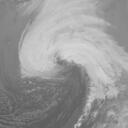cyclone: (17, 1, 127, 100)
